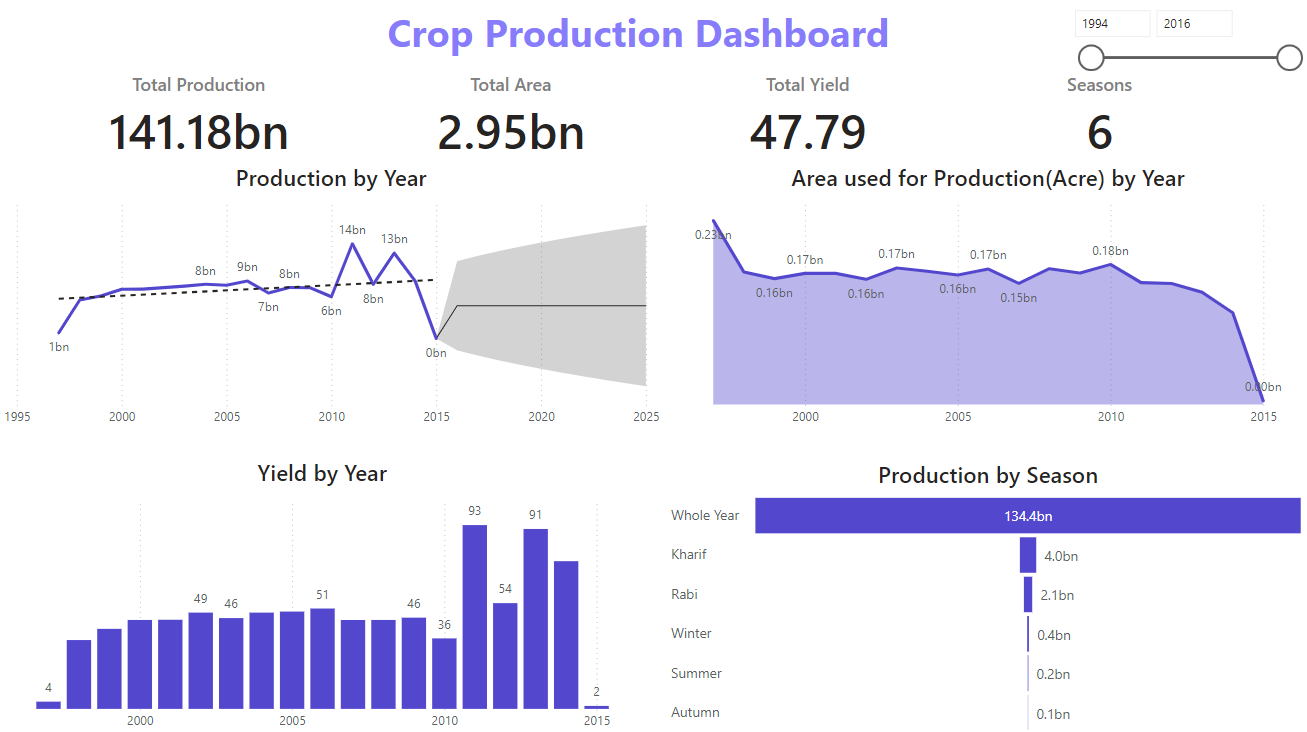

This screenshot's page, from the dashboard's own definition file:
{"tool":"powerbi","page":{"name":"Crop Production Dashboard","canvas":[1280,720],"ordinal":0},"visuals":[{"type":"lineChart","title":"Production by Year","fields":{"Category":["Dim_date.Date.Variation.Date Hierarchy.Year","Dim_date.Date.Variation.Date Hierarchy.Quarter","Dim_date.Date.Variation.Date Hierarchy.Month","Dim_date.Date.Variation.Date Hierarchy.Day"],"Y":["Dim_Measures.Total Production"]},"box":[0,201.6,648.9,266.2],"z":0},{"type":"columnChart","fields":{"Y":["Measures Table.Yield"],"Category":["Dim_date.Date.Variation.Date Hierarchy.Year"]},"box":[0,467.8,631.6,253.6],"z":1000},{"type":"card","title":"Total Production","fields":{"Values":["Measures Table.Total Production"]},"box":[67.7,103.3,256.7,86.6],"z":2000},{"type":"card","title":"Total Yield(units per unit area)","fields":{"Values":["Measures Table.Yield"]},"box":[660,103.3,256.7,86.6],"z":3000},{"type":"card","title":"Total Area","fields":{"Values":["Sum(Crop Production data.Area)"]},"box":[371.7,103.3,256.7,86.6],"z":4000},{"type":"card","title":"Seasons","fields":{"Values":["Count(Crop Production data.Season)"]},"box":[965.5,103.3,214.2,86.6],"z":5000},{"type":"textbox","box":[0,3.2,546.6,70.9],"z":6000},{"type":"funnel","title":"Production by Season","fields":{"Y":["Sum(Crop Production data.Production)"],"Category":["Crop Production data.Season"]},"box":[650.5,467.8,628.5,253.6],"z":7000},{"type":"areaChart","title":"Area used for Production(Acre) by Year","fields":{"Y":["Sum(Crop Production data.Area)"],"Category":["Dim_date.Date.Variation.Date Hierarchy.Year","Dim_date.Date.Variation.Date Hierarchy.Quarter","Dim_date.Date.Variation.Date Hierarchy.Month","Dim_date.Date.Variation.Date Hierarchy.Day"]},"box":[648.9,201.6,631.6,266.2],"z":8000},{"type":"slicer","title":"Year","fields":{"Values":["Dim_date.Year"]},"box":[1058.5,0,207.9,104],"z":8003},{"type":"slicer","fields":{"Values":["Crop Production data.District_Name"]},"box":[701,0,300.9,86.9],"z":8004}]}

Visuals, with their boxes in screenshot pixels (x1, y1, x2, y2), scaled from the page's 1280x720 canvas onto the 1307x732 screenshot:
"Production by Year" lineChart: bbox=(0, 205, 663, 476)
columnChart - Measures Table.Yield x Dim_date.Date.Variation.Date Hierarchy.Year: bbox=(0, 476, 645, 731)
"Total Production" card: bbox=(69, 105, 331, 193)
"Total Yield(units per unit area)" card: bbox=(674, 105, 936, 193)
"Total Area" card: bbox=(380, 105, 642, 193)
"Seasons" card: bbox=(986, 105, 1205, 193)
textbox: bbox=(0, 3, 558, 75)
"Production by Season" funnel: bbox=(664, 476, 1306, 731)
"Area used for Production(Acre) by Year" areaChart: bbox=(663, 205, 1306, 476)
"Year" slicer: bbox=(1081, 0, 1293, 106)
slicer - Crop Production data.District_Name: bbox=(716, 0, 1023, 88)
